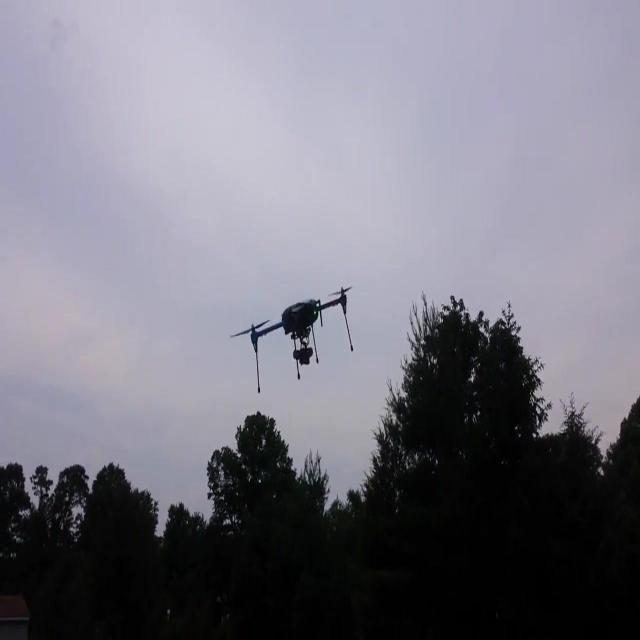UAV: (230, 284, 354, 394)
